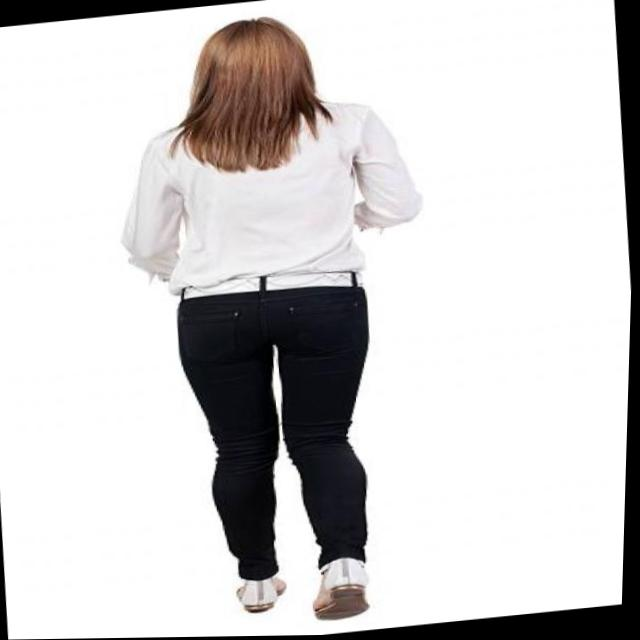no helmet: (151, 0, 345, 179)
